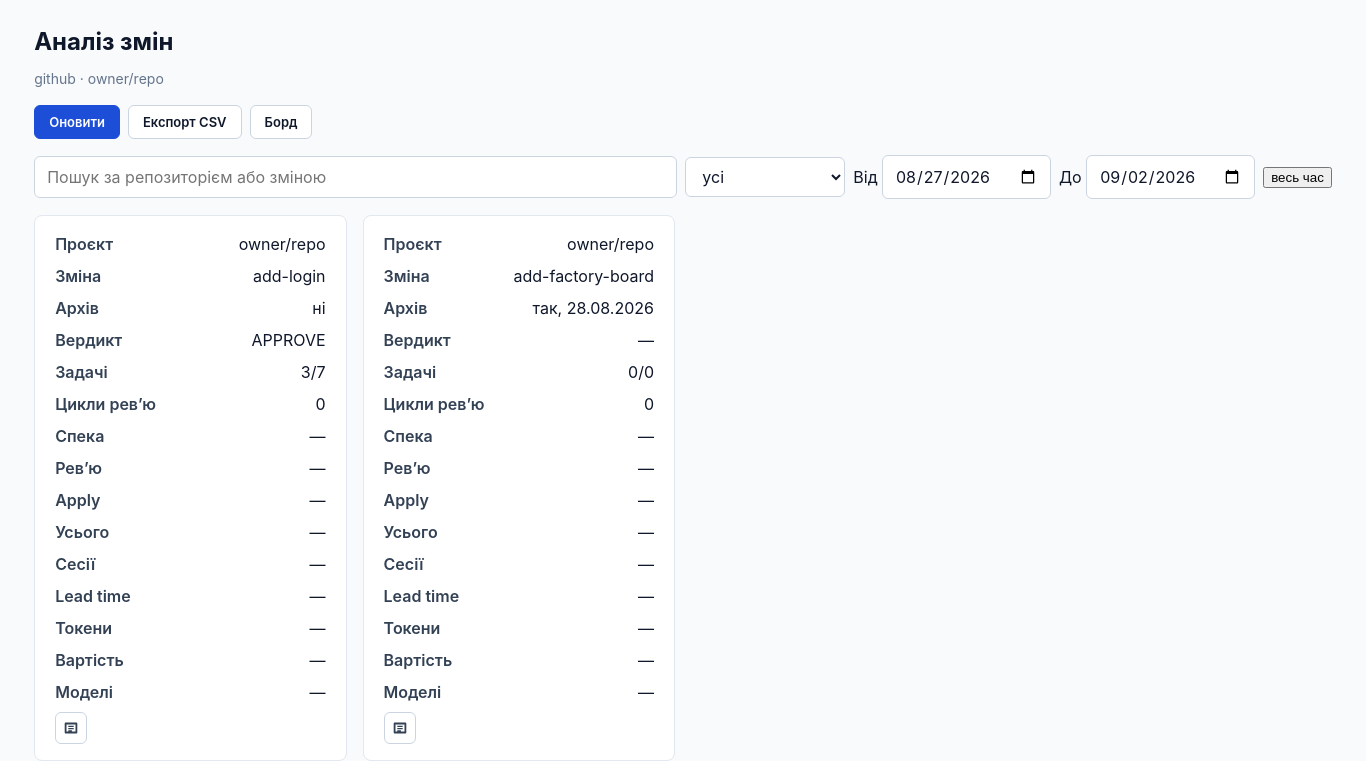
Test: AnalysisView › does not reload when from is later than to
Type "2026-09-10" into the date field labelled "Від" at (966, 177), box [882,155,1051,199]
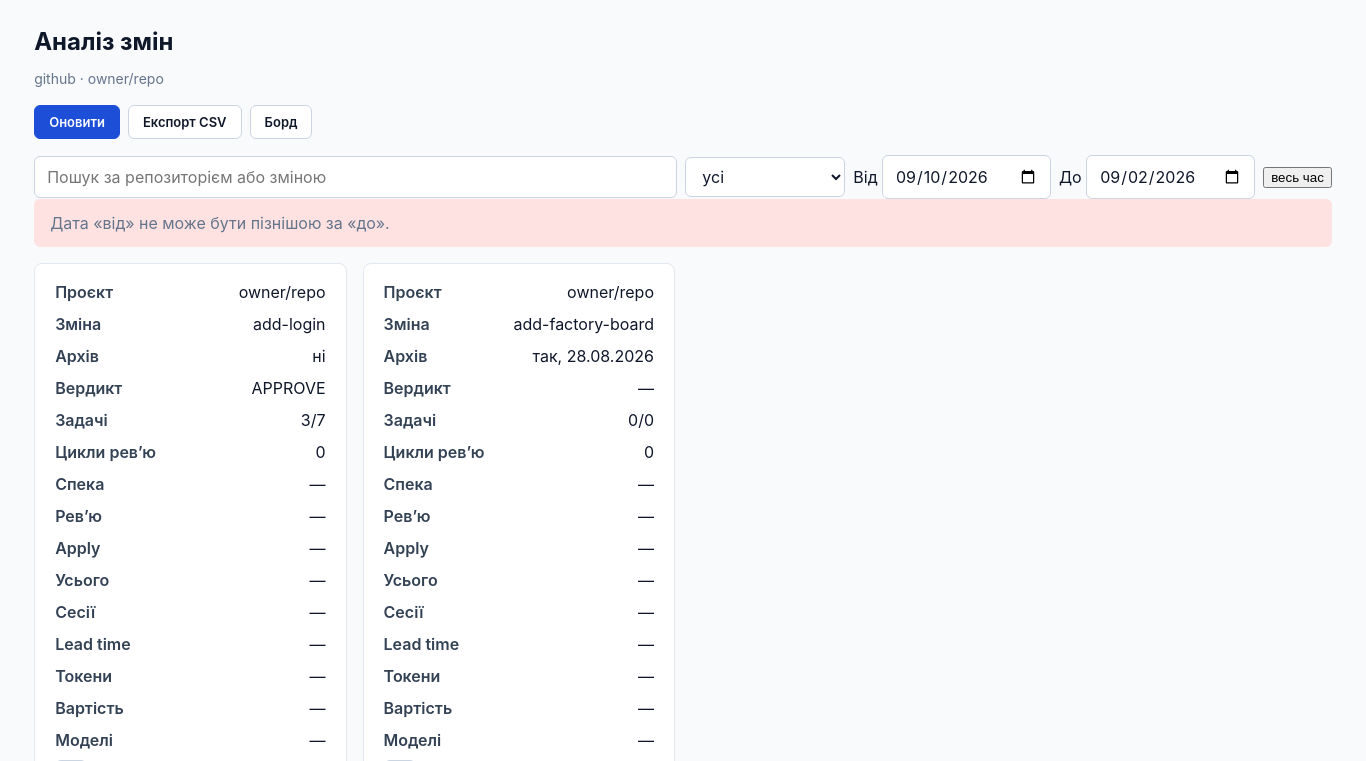
Now the text "Дата «від» не може бути пізнішою за «до»." is shown, box [34,199,1332,247]
Now the text with class "analysis-period-error" reads "Дата «від» не може бути пізнішою за «до».", box [50,213,390,233]
